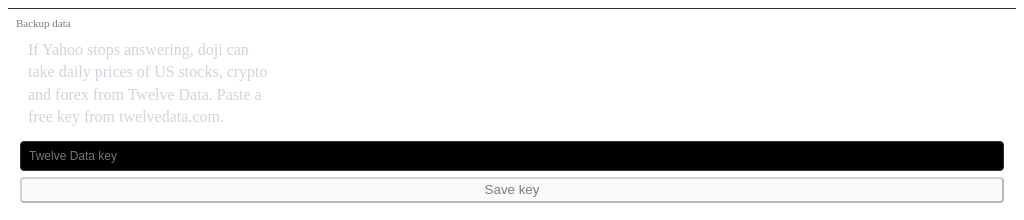
Test: Should save a key for the backup source and say it is set without showing it
The width and height of the screenshot is (1024, 220).
Type "abcdef0123456789" into the password field labelled "Twelve Data key" at (512, 156), box top-left (20, 141), bottom-right (1004, 171)
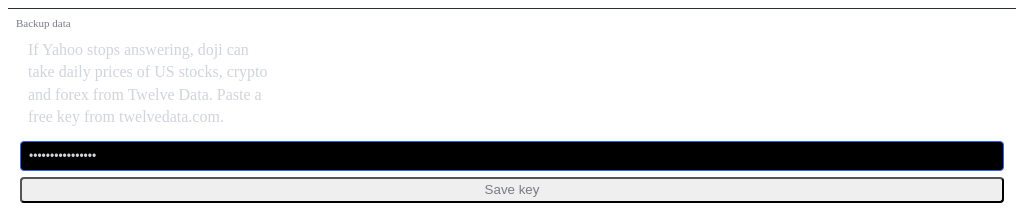
Click the button "Save key" at (512, 190), box top-left (20, 177), bottom-right (1004, 203)
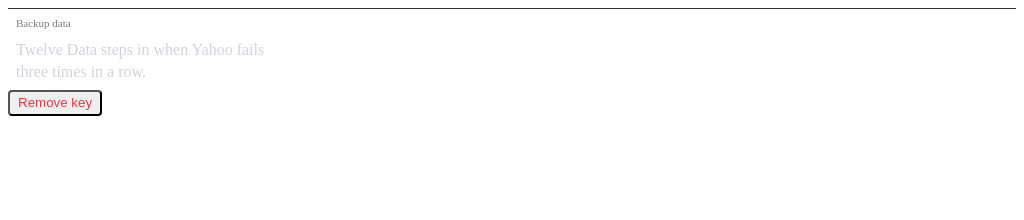
Now the text "Twelve Data steps in when Yahoo fails three times in a row." is shown, box top-left (8, 33), bottom-right (274, 90)
